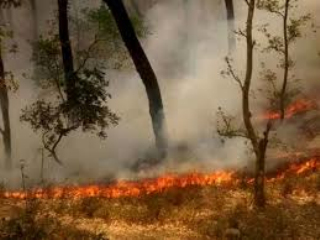fire: (10, 171, 254, 201), (261, 94, 320, 125), (274, 155, 320, 178)
smoke: (129, 33, 258, 165)
